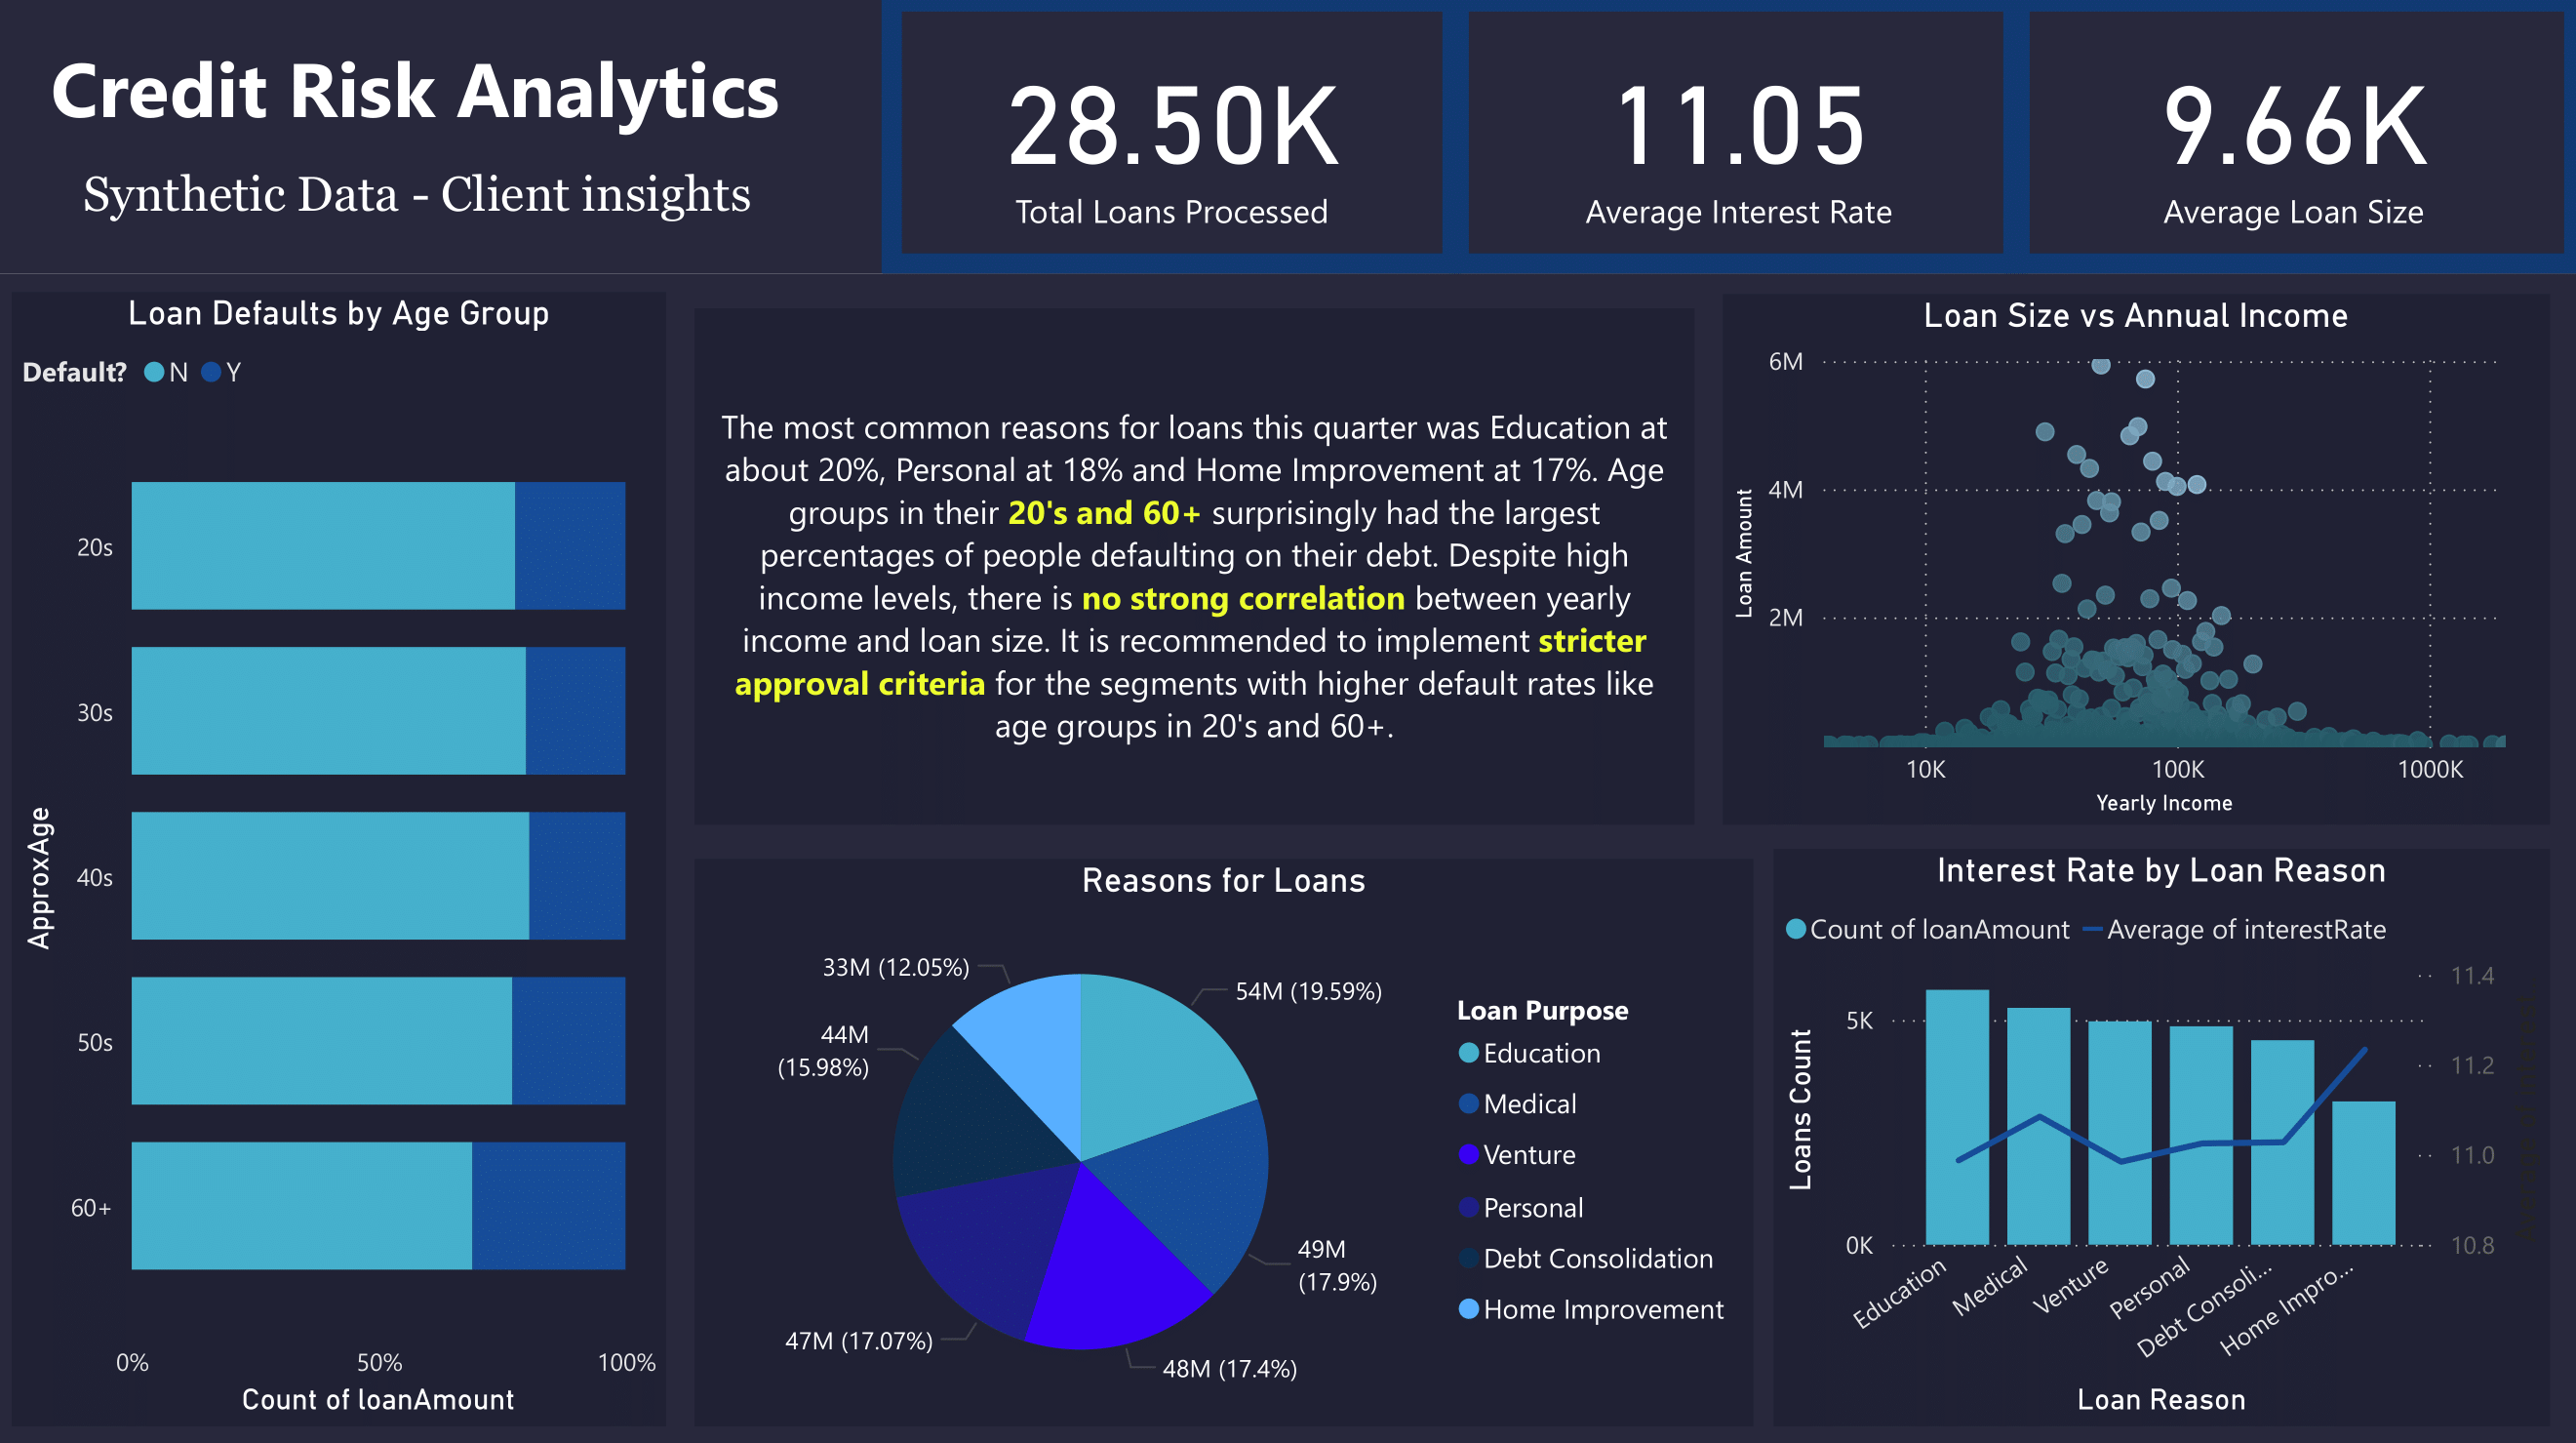

The dashboard page shown, as its layout file describes it:
{"tool":"powerbi","page":{"name":"Page 1","canvas":[1280,720],"ordinal":0},"visuals":[{"type":"shape","box":[0,0,1280,138.9],"z":0},{"type":"textbox","box":[0,0,425.2,103.8],"z":1000},{"type":"textbox","box":[44.5,80.8,425.2,151.6],"z":2000},{"type":"card","fields":{"Values":["CountNonNull(Credit_Risk.loanAmount)"]},"box":[442.3,0,286,139.3],"z":3000},{"type":"card","fields":{"Values":["Avg(Credit_Risk.interestRate)"]},"box":[720.8,0,286,139.3],"z":4000},{"type":"card","fields":{"Values":["Avg(Credit_Risk.loanAmount)"]},"box":[994,0,286,139.3],"z":5000},{"type":"shape","box":[0,138.9,1278.9,581.1],"z":6000},{"type":"scatterChart","title":"Loan Size vs Annual Income","fields":{"X":["Credit_Risk.annualIncome"],"Y":["Sum(Credit_Risk.loanAmount)"]},"box":[855.8,148.8,407,261.6],"z":7000},{"type":"pieChart","title":"Reasons for Loans","fields":{"Y":["Sum(Credit_Risk.loanAmount)"],"Category":["Credit_Risk.loanIntent"]},"box":[350,426.7,521.1,278.9],"z":8000},{"type":"textbox","box":[349.6,156.1,492.5,253.9],"z":9000},{"type":"hundredPercentStackedBarChart","title":"Loan Defaults by Age Group","fields":{"Category":["Credit_Risk.ApproxAge"],"Series":["Credit_Risk.currentLoanDefault"],"Y":["CountNonNull(Credit_Risk.loanAmount)"]},"box":[14.3,148.4,322.1,557.3],"z":10000},{"type":"lineClusteredColumnComboChart","title":"Interest Rate by Loan Reason","fields":{"Category":["Credit_Risk.loanIntent"],"Y":["CountNonNull(Credit_Risk.loanAmount)"],"Y2":["Avg(Credit_Risk.interestRate)"]},"box":[880.7,421.6,382,284],"z":11000}]}

Visuals, with their boxes in screenshot pixels (x1, y1, x2, y2), scaled from the page's 1280x720 canvas onto the 2576x1443 screenshot:
shape: {"x1": 0, "y1": 0, "x2": 2575, "y2": 278}
textbox: {"x1": 0, "y1": 0, "x2": 855, "y2": 208}
textbox: {"x1": 90, "y1": 162, "x2": 945, "y2": 465}
card - CountNonNull(Credit_Risk.loanAmount): {"x1": 891, "y1": 0, "x2": 1466, "y2": 279}
card - Avg(Credit_Risk.interestRate): {"x1": 1450, "y1": 0, "x2": 2026, "y2": 279}
card - Avg(Credit_Risk.loanAmount): {"x1": 2001, "y1": 0, "x2": 2575, "y2": 279}
shape: {"x1": 0, "y1": 278, "x2": 2574, "y2": 1442}
"Loan Size vs Annual Income" scatterChart: {"x1": 1723, "y1": 299, "x2": 2542, "y2": 822}
"Reasons for Loans" pieChart: {"x1": 704, "y1": 856, "x2": 1753, "y2": 1414}
textbox: {"x1": 703, "y1": 313, "x2": 1694, "y2": 822}
"Loan Defaults by Age Group" hundredPercentStackedBarChart: {"x1": 29, "y1": 298, "x2": 677, "y2": 1415}
"Interest Rate by Loan Reason" lineClusteredColumnComboChart: {"x1": 1772, "y1": 845, "x2": 2541, "y2": 1414}
